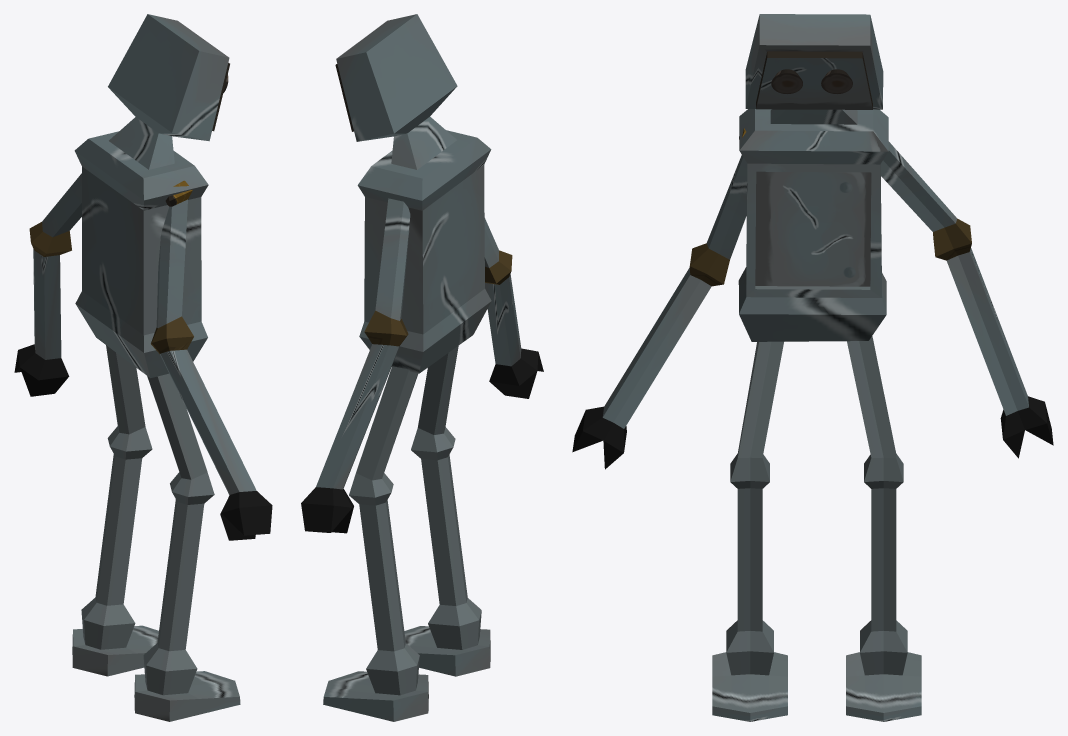
Rendered from robot.fbx.
The picture shows the model from 3 angles, left to right: view 1: azimuth 30°, elevation 25°; view 2: azimuth 150°, elevation 25°; view 3: azimuth 270°, elevation 25°; orthographic projection. The views are drawn at different scales.
Visible parts, largest first — view 1: Cone.001; view 2: Cone.001; view 3: Cone.001.
Boxes of the visible parts, box(x1,y1,x2,y2) form: Cone.001: box(14, 14, 272, 721); Cone.001: box(301, 14, 543, 721); Cone.001: box(572, 14, 1053, 721).
Bounding box in the file's own units: 913 × 4780 × 3016.
3 materials, 3 textured.
